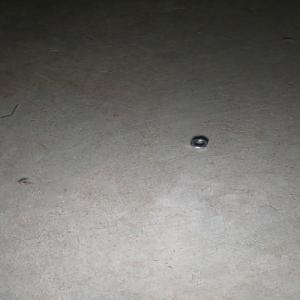Nut: (188, 138, 207, 149)
